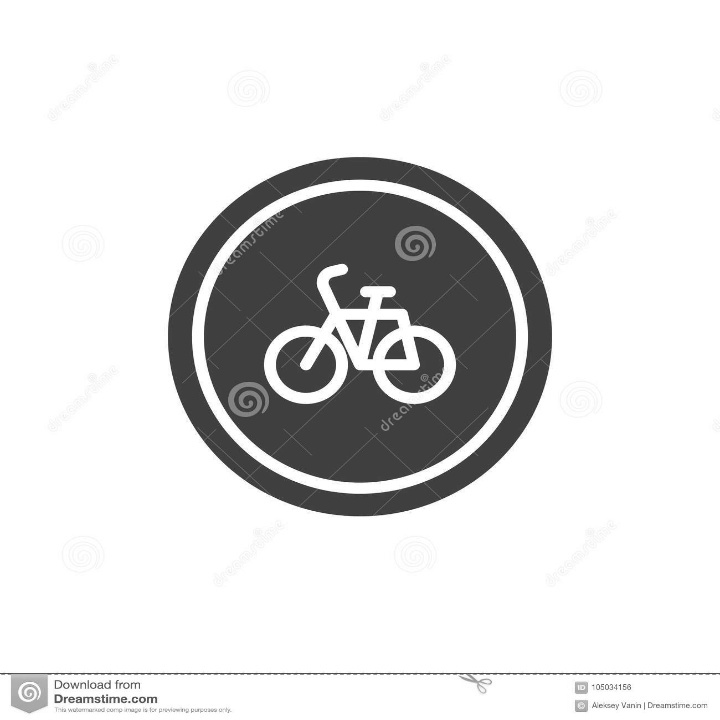bicycle: (257, 237, 463, 443)
